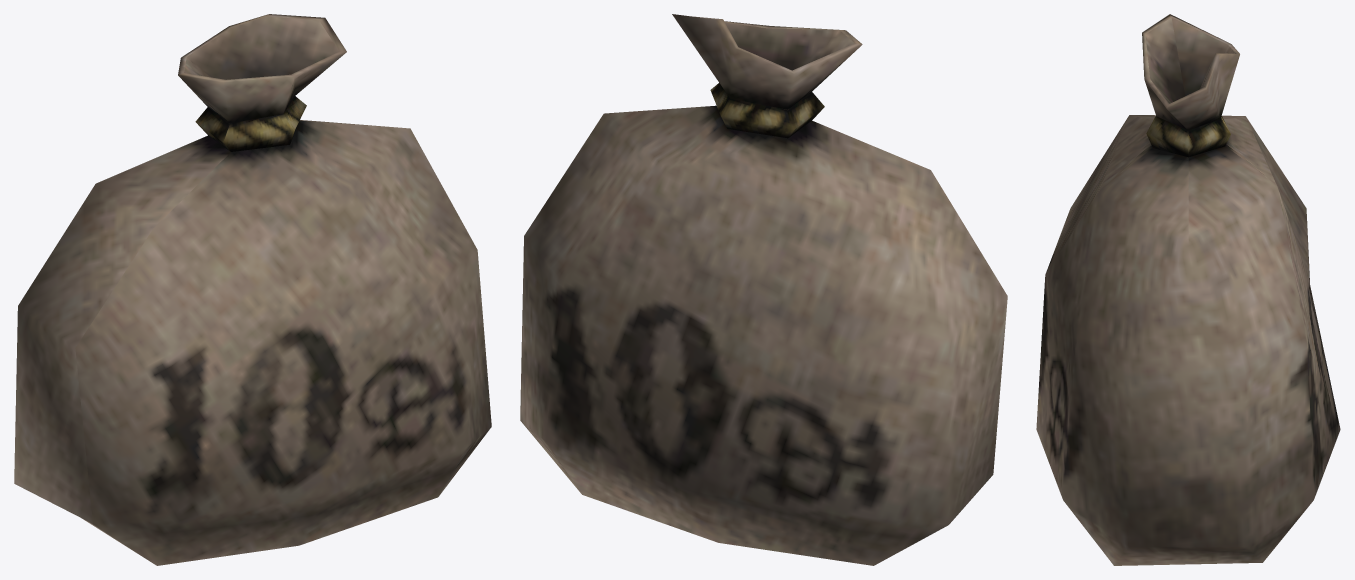
The model's file is coins_small.dae.
3 renders of one model, left to right at view 1: azimuth 30°, elevation 25°; view 2: azimuth 150°, elevation 25°; view 3: azimuth 270°, elevation 25°, orthographic. The views are drawn at different scales.
Visible parts, largest first — view 1: coins_small; view 2: coins_small; view 3: coins_small.
Part boxes in pixels (box(x1,y1,x2,y2)): coins_small: box(14, 14, 491, 565); coins_small: box(520, 14, 1007, 565); coins_small: box(1036, 14, 1340, 565).
Size of the model in its own units: 0.0933 by 0.1021 by 0.0609.
